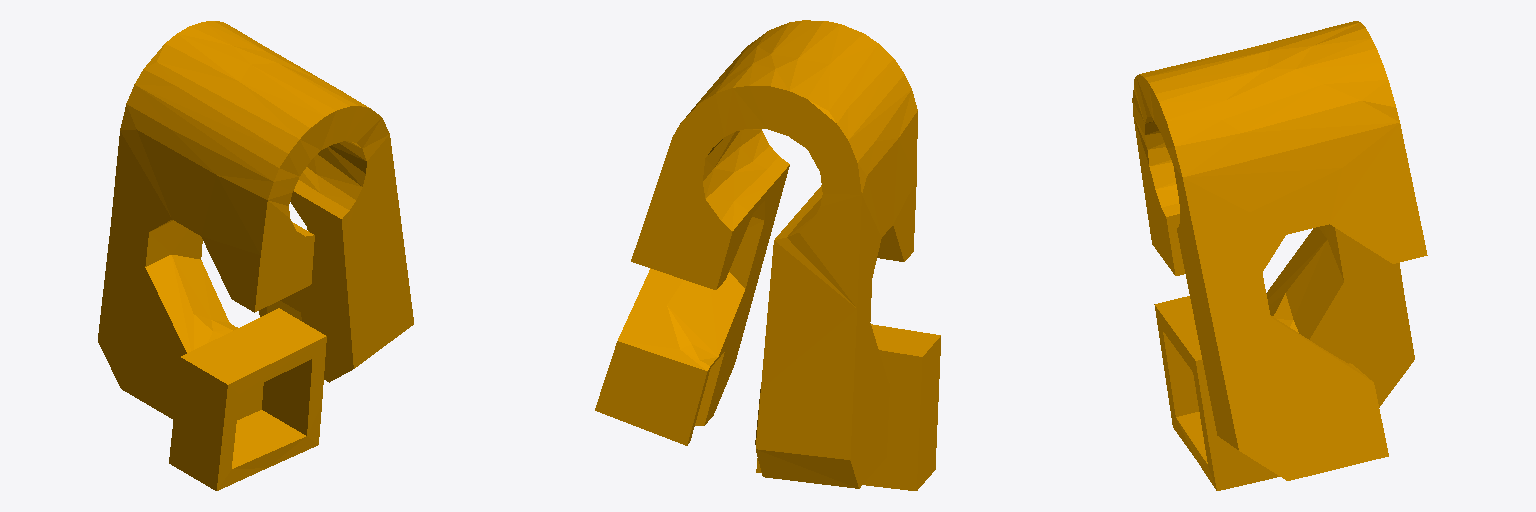
robot.urdf — tray:
<robot name="tray">
  <link name="tray_base_link">
    <contact>
      <lateral_friction value="0.5"/>
      <rolling_friction value="0.0"/>
      <contact_cfm value="0.0"/>
      <contact_erp value="1.0"/>
    </contact>
    <inertial>
      <origin rpy="0 0 0" xyz="0 0 0"/>
      <mass value="1"/>
      <inertia ixx="0.1" ixy="0" ixz="0" iyy="0.1" iyz="0" izz="0.1"/>
    </inertial>
    <visual>
      <origin rpy="0 0 0" xyz="0 0 0"/>
      <geometry>
        <mesh filename="meshes/bar_clamp.obj" scale="5 5 5"/>
      </geometry>
      <!-- <material name="tray_material">
        <color rgba="0.7 0.7 0.7 1"/>
      </material> -->
    </visual>
    <collision>
      <origin rpy="0 0 0" xyz="0 0 0"/>
      <geometry>
        <mesh filename="meshes/bar_clamp.obj" scale="5 5 5"/>
      </geometry>
    </collision>
  </link>
</robot>

--- Render facts (derived) ---
The picture shows the robot from 3 angles, left to right: view 1: azimuth 30°, elevation 25°; view 2: azimuth 150°, elevation 25°; view 3: azimuth 270°, elevation 25°; orthographic projection.
Model tray with 1 links and 0 joints (none), rooted at tray_base_link, posed every joint at zero.
Links seen in each view (by area): view 1: tray_base_link; view 2: tray_base_link; view 3: tray_base_link.
Boxes of the visible links, box(x1,y1,x2,y2) form: tray_base_link: box(98, 21, 413, 490); tray_base_link: box(595, 20, 940, 490); tray_base_link: box(1132, 21, 1427, 490).
Size in the robot's own frame: 0.3913 by 0.3601 by 0.5808 metres.
Meshes: 1 distinct files referenced, 1 mesh visuals loaded (1 OBJ).